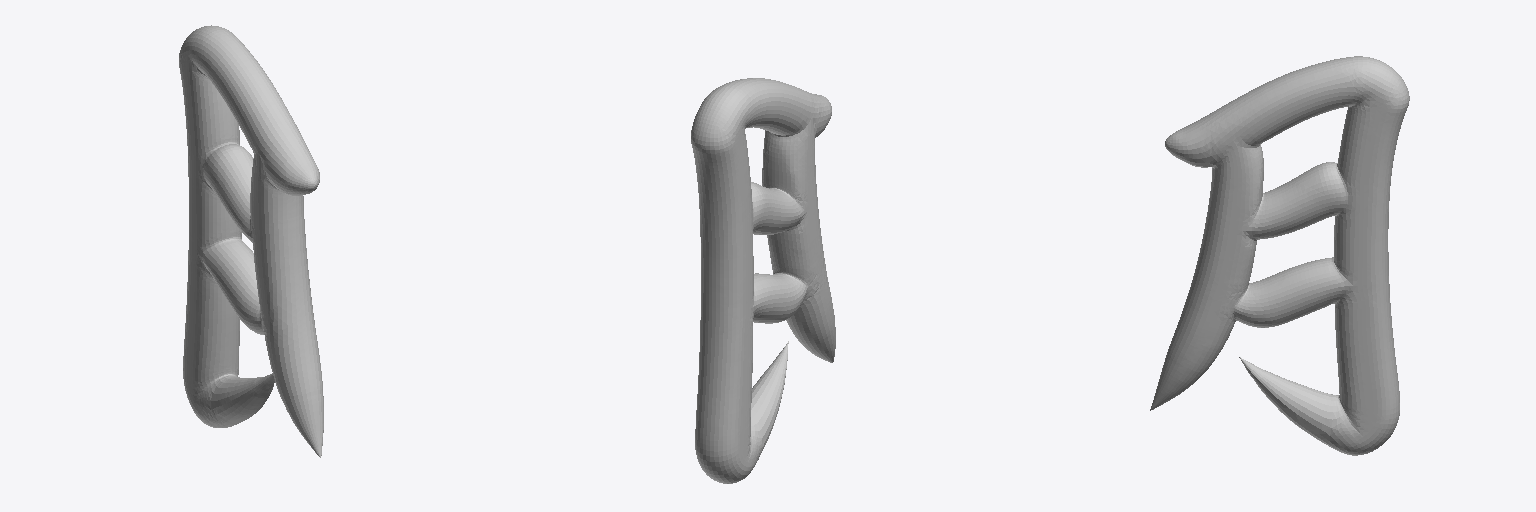
The picture shows the model from 3 angles: view 1: azimuth 30°, elevation 25°; view 2: azimuth 150°, elevation 25°; view 3: azimuth 270°, elevation 25°; orthographic projection.
Parts seen in each view (by area): view 1: tripo_node_ad08dad7-6444-434f-84fd-f3e8e75b308b; view 2: tripo_node_ad08dad7-6444-434f-84fd-f3e8e75b308b; view 3: tripo_node_ad08dad7-6444-434f-84fd-f3e8e75b308b.
Part boxes in pixels (bbox=[...]): tripo_node_ad08dad7-6444-434f-84fd-f3e8e75b308b: bbox=[179, 25, 323, 457]; tripo_node_ad08dad7-6444-434f-84fd-f3e8e75b308b: bbox=[691, 78, 835, 483]; tripo_node_ad08dad7-6444-434f-84fd-f3e8e75b308b: bbox=[1150, 56, 1409, 455].
Bounding box in the file's own units: 0.1114 × 0.9987 × 0.5954.